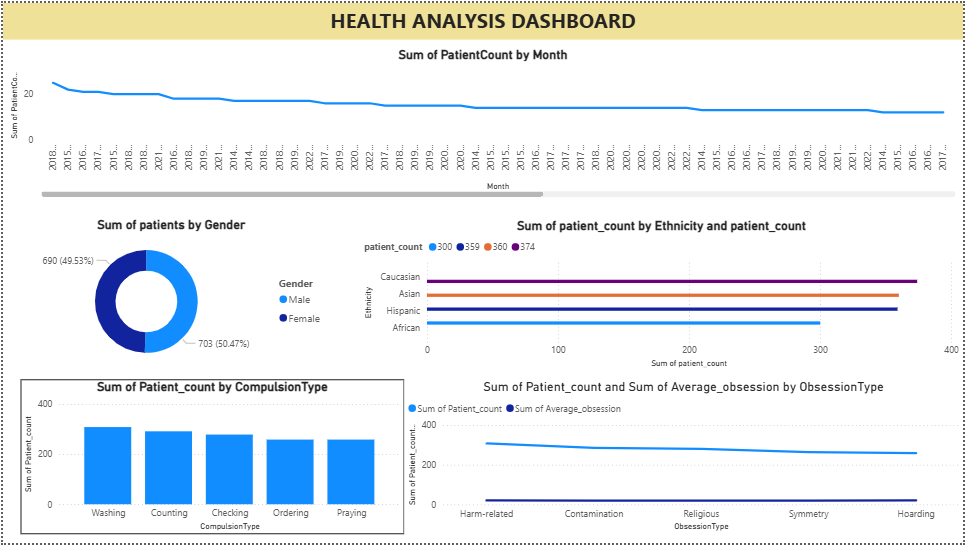

The dashboard page shown, as its layout file describes it:
{"tool":"powerbi","page":{"name":"Page 1","canvas":[1280,720],"ordinal":0},"visuals":[{"type":"textbox","box":[0,0,1280,48.6],"z":0},{"type":"lineChart","fields":{"Category":["diagnosis mom.Month"],"Y":["Sum(diagnosis mom.PatientCount)"]},"box":[4.3,58.6,1270,205.7],"z":1000},{"type":"donutChart","fields":{"Category":["gender.Gender"],"Y":["Sum(gender.patients)"]},"box":[10,284.3,428.6,207.1],"z":2000},{"type":"clusteredBarChart","fields":{"Category":["ethnicity.Ethnicity"],"Y":["Sum(ethnicity.patient_count)"],"Series":["ethnicity.patient_count"]},"box":[477.1,287.1,802.9,204.3],"z":3000},{"type":"columnChart","fields":{"Category":["compulsion_type.CompulsionType"],"Y":["Sum(compulsion_type.Patient_count)"]},"box":[23.3,501.7,511.7,206.7],"z":4000},{"type":"lineChart","fields":{"Category":["obs_type.ObsessionType"],"Y":["Sum(obs_type.Patient_count)","Sum(obs_type.Average_obsession)"]},"box":[535,502,745,207],"z":4001}]}

Visuals, with their boxes in screenshot pixels (x1, y1, x2, y2), scaled from the page's 1280x720 canvas onto the 966x546 screenshot:
textbox: [left=0, top=0, right=965, bottom=37]
lineChart - diagnosis mom.Month x Sum(diagnosis mom.PatientCount): [left=3, top=44, right=962, bottom=200]
donutChart - gender.Gender x Sum(gender.patients): [left=8, top=216, right=331, bottom=373]
clusteredBarChart - ethnicity.Ethnicity x Sum(ethnicity.patient_count): [left=360, top=218, right=965, bottom=373]
columnChart - compulsion_type.CompulsionType x Sum(compulsion_type.Patient_count): [left=18, top=380, right=404, bottom=537]
lineChart - obs_type.ObsessionType x Sum(obs_type.Patient_count): [left=404, top=381, right=965, bottom=538]
